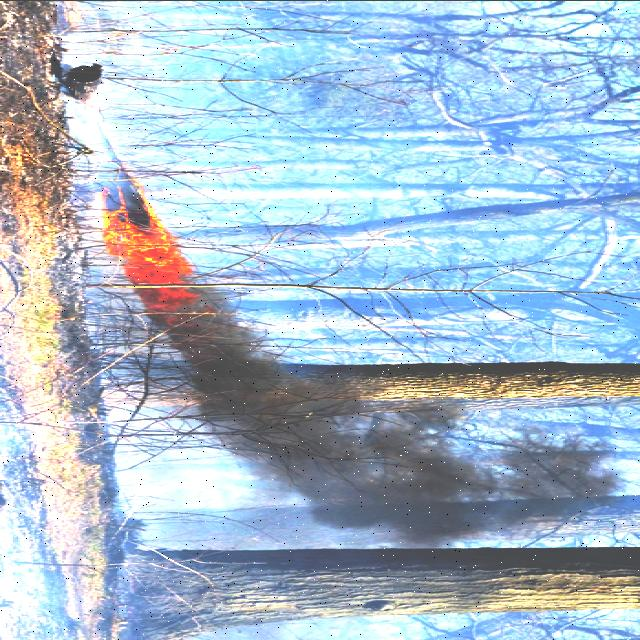api: (104, 217, 189, 277), (130, 180, 161, 216)
asap: (241, 396, 607, 540), (172, 336, 291, 383), (130, 280, 248, 327)
